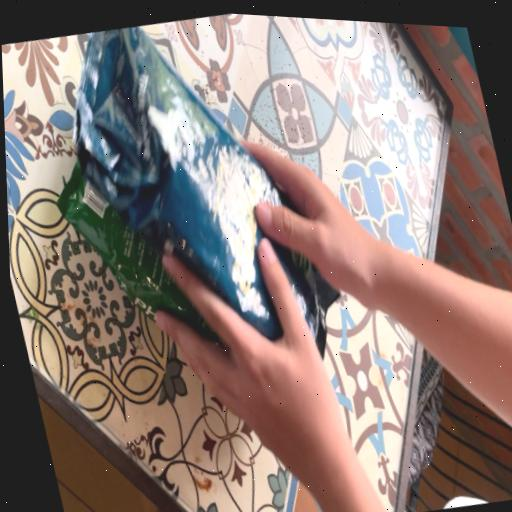cafe_hat: (73, 26, 285, 339), (276, 247, 335, 344)
cafe_xay: (56, 162, 216, 340)
